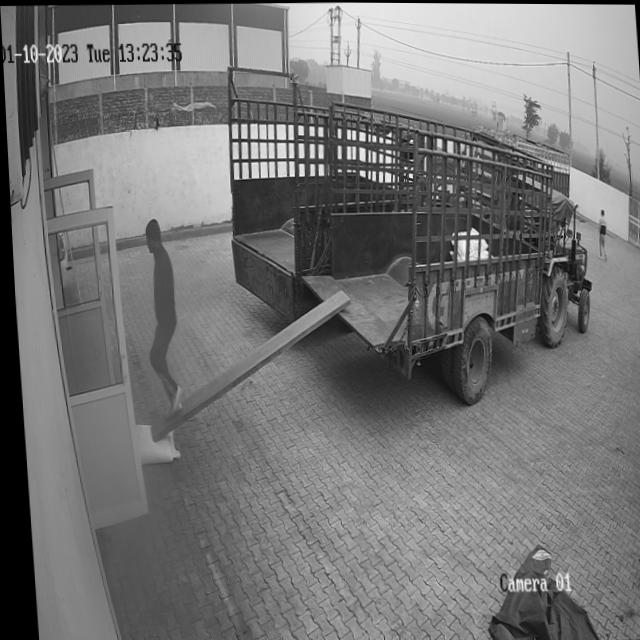sack: (129, 423, 175, 462)
